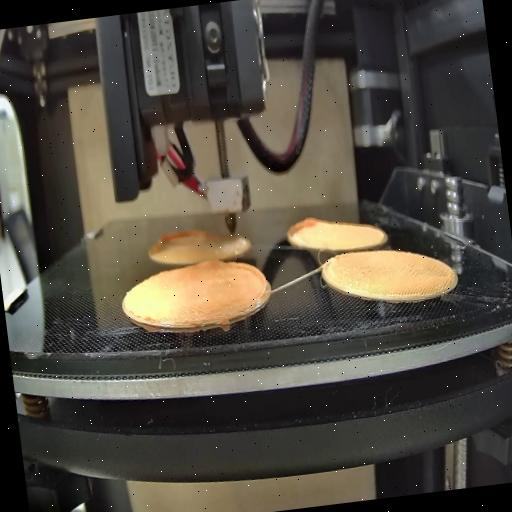over_extrusion: (224, 250, 270, 304), (150, 226, 210, 250), (285, 214, 320, 252), (186, 254, 222, 276)
